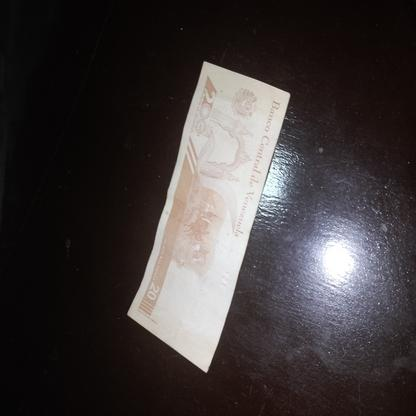twenty-back-vef: (125, 60, 291, 374)
